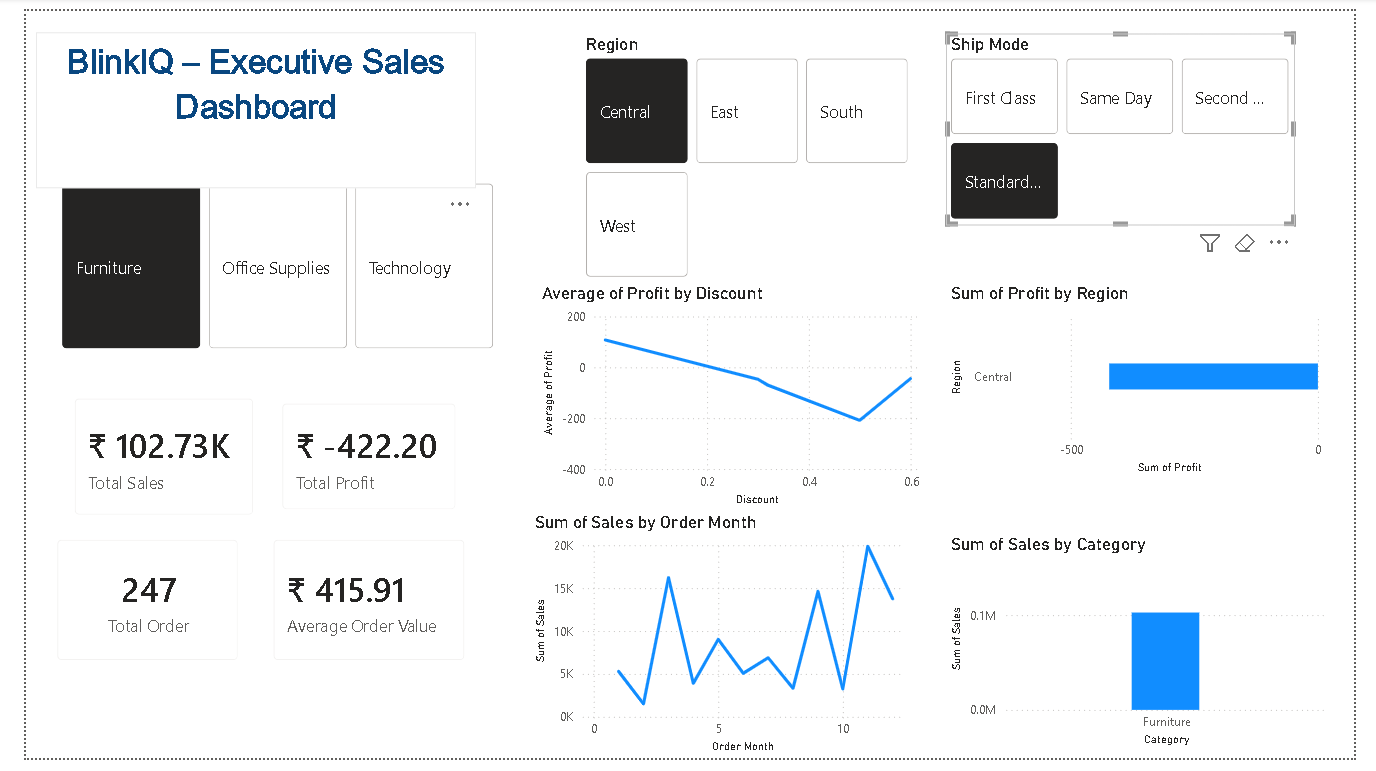

What the dashboard file says about the page in this screenshot:
{"tool":"powerbi","page":{"name":"Page 1","canvas":[1280,720],"ordinal":0},"visuals":[{"type":"cardVisual","fields":{"Data":["Sum(cleaneddata.Sales)"]},"box":[30,356.7,206.7,146.7],"z":0},{"type":"cardVisual","fields":{"Data":["Sum(cleaneddata.Profit)"]},"box":[230,361.7,201.7,136.7],"z":1000},{"type":"cardVisual","fields":{"Data":["Count(cleaneddata.Order ID)"]},"box":[13.3,493.3,208.3,150],"z":2000},{"type":"cardVisual","fields":{"Data":["cleaneddata.Average Order Value"]},"box":[221.7,493.3,218.3,150],"z":3000},{"type":"lineChart","fields":{"Y":["Sum(cleaneddata.Sales)"],"Category":["cleaneddata.Order Month"]},"box":[485,481.7,365,238.3],"z":4000},{"type":"barChart","fields":{"Category":["cleaneddata.Region"],"Y":["Sum(cleaneddata.Profit)"]},"box":[886.7,261.7,366.7,190],"z":5000},{"type":"columnChart","fields":{"Category":["cleaneddata.Category"],"Y":["Sum(cleaneddata.Sales)"]},"box":[886.7,503.3,373.3,210],"z":6000},{"type":"advancedSlicerVisual","fields":{"Values":["cleaneddata.Category"]},"box":[30,141.7,425,188.3],"z":7000},{"type":"advancedSlicerVisual","fields":{"Values":["cleaneddata.Region"]},"box":[535,21.7,321.7,240],"z":8000},{"type":"advancedSlicerVisual","fields":{"Values":["cleaneddata.Ship Mode"]},"box":[886.7,21.7,336.7,185],"z":9000},{"type":"lineChart","fields":{"Category":["cleaneddata.Discount"],"Y":["Avg(cleaneddata.Profit)"]},"box":[493.3,261.7,375,220],"z":10000},{"type":"textbox","box":[10,21,424,150],"z":11000}]}

Visuals, with their boxes in screenshot pixels (x1, y1, x2, y2), scaled from the page's 1280x720 canvas onto the 1376x771 screenshot:
cardVisual - Sum(cleaneddata.Sales): {"left": 32, "top": 382, "right": 254, "bottom": 539}
cardVisual - Sum(cleaneddata.Profit): {"left": 247, "top": 387, "right": 464, "bottom": 534}
cardVisual - Count(cleaneddata.Order ID): {"left": 14, "top": 528, "right": 238, "bottom": 689}
cardVisual - cleaneddata.Average Order Value: {"left": 238, "top": 528, "right": 473, "bottom": 689}
lineChart - Sum(cleaneddata.Sales) x cleaneddata.Order Month: {"left": 521, "top": 516, "right": 914, "bottom": 770}
barChart - cleaneddata.Region x Sum(cleaneddata.Profit): {"left": 953, "top": 280, "right": 1347, "bottom": 484}
columnChart - cleaneddata.Category x Sum(cleaneddata.Sales): {"left": 953, "top": 539, "right": 1354, "bottom": 764}
advancedSlicerVisual - cleaneddata.Category: {"left": 32, "top": 152, "right": 489, "bottom": 353}
advancedSlicerVisual - cleaneddata.Region: {"left": 575, "top": 23, "right": 921, "bottom": 280}
advancedSlicerVisual - cleaneddata.Ship Mode: {"left": 953, "top": 23, "right": 1315, "bottom": 221}
lineChart - cleaneddata.Discount x Avg(cleaneddata.Profit): {"left": 530, "top": 280, "right": 933, "bottom": 516}
textbox: {"left": 11, "top": 22, "right": 467, "bottom": 183}
